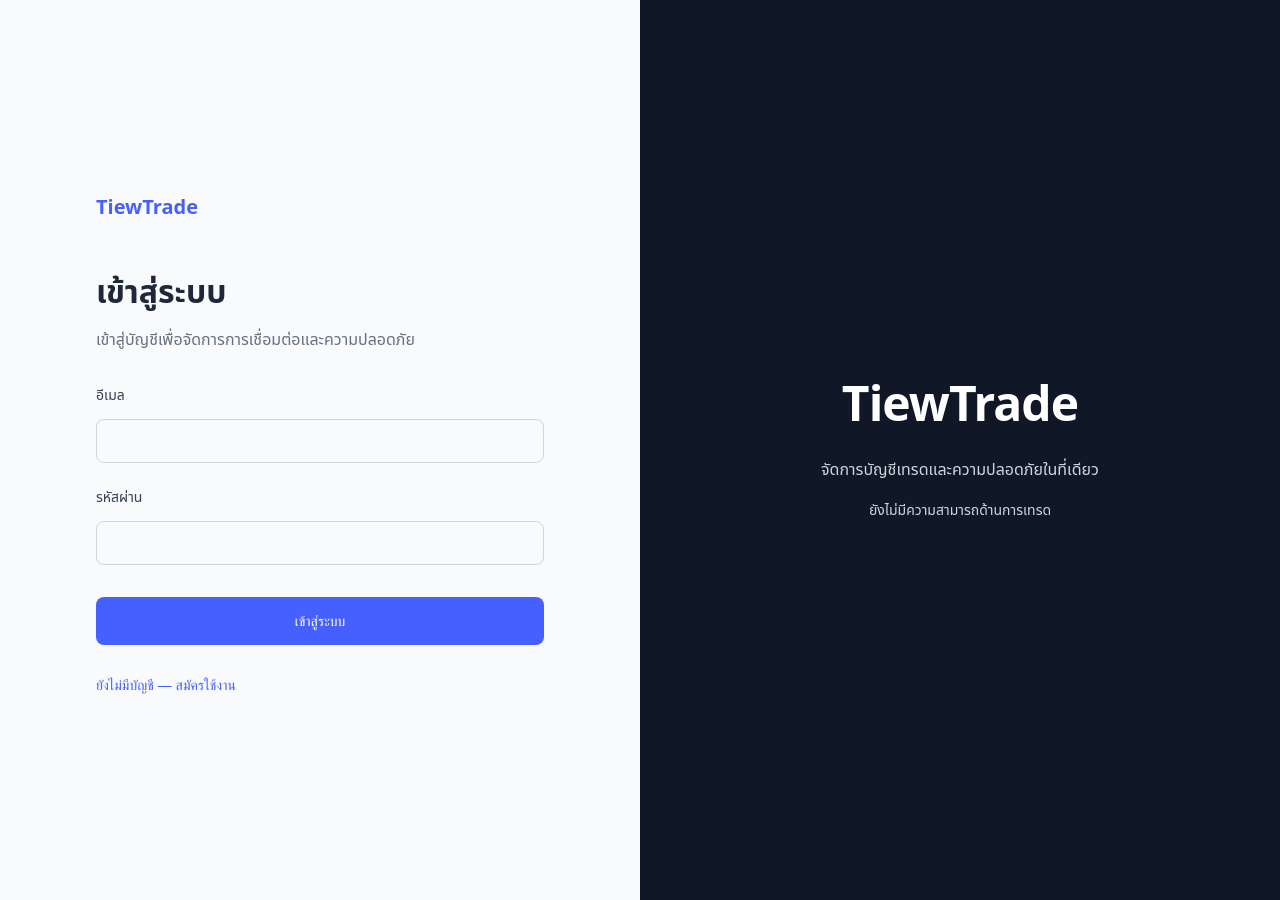
Test: AuthPanel › เตือนว่ากู้รหัสผ่านไม่ได้ ก่อนผู้ใช้สมัคร
The image size is (1280, 900).
Expected: the element with test id "signed-out" is shown, top-left (96, 271), bottom-right (544, 709)
Step 1. Click the button with test id "switch-mode" → (166, 685), box top-left (96, 661), bottom-right (236, 709)
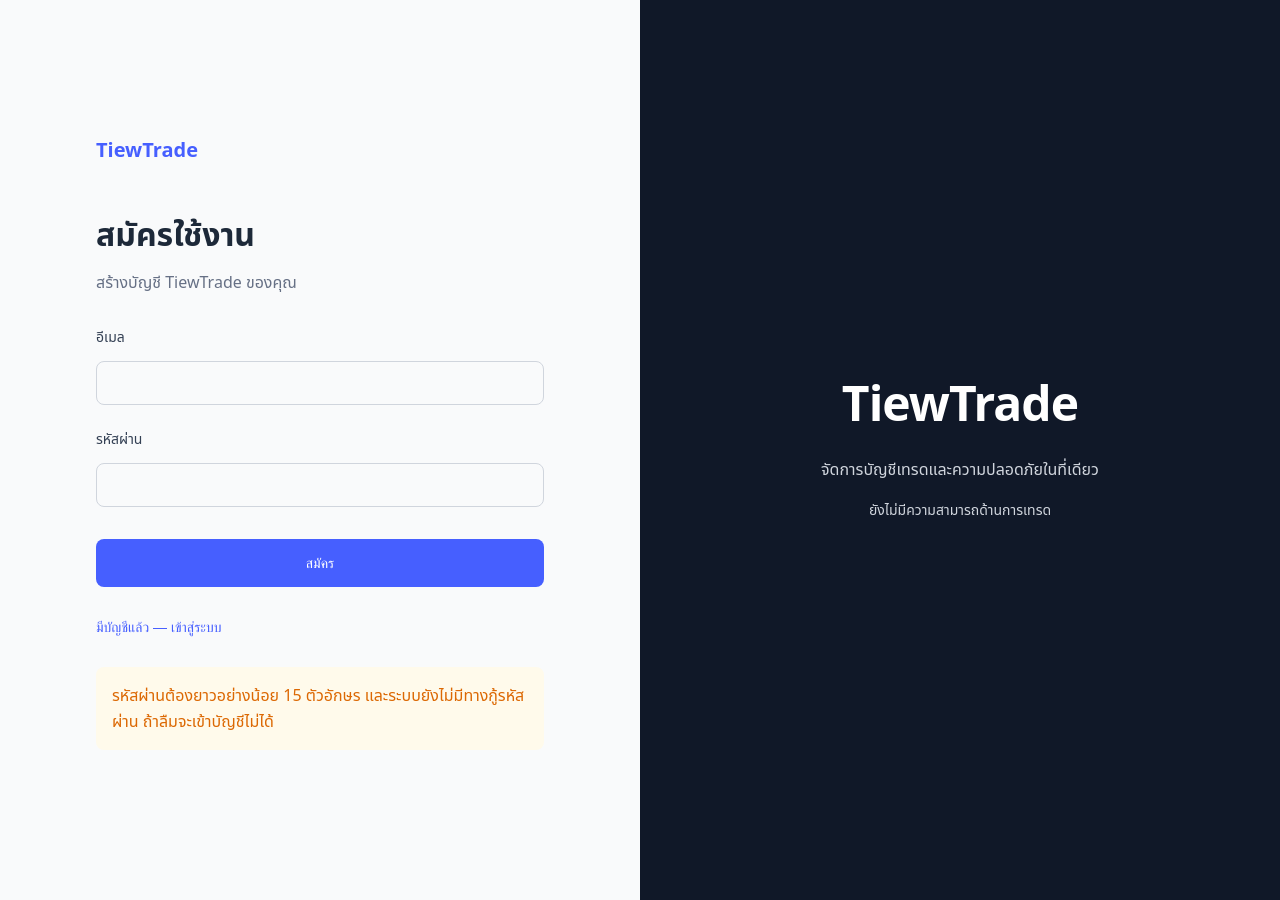
Expected: the text with test id "recovery-warning" shows "ยังไม่มีทางกู้รหัสผ่าน", top-left (112, 684), bottom-right (524, 732)
Expected: the text with test id "recovery-warning" shows "15", top-left (112, 684), bottom-right (524, 732)
